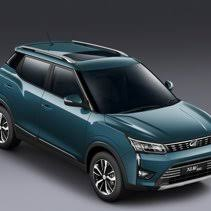car: (1, 33, 207, 203)
